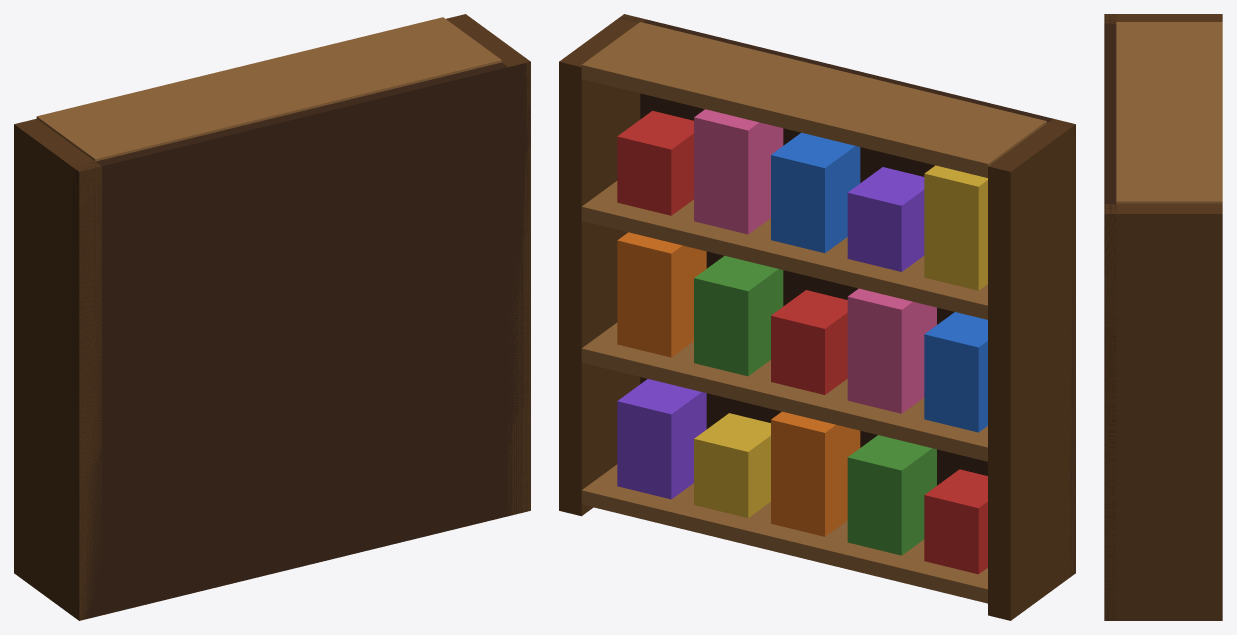
File: th-goods-shelf.glb
3 renders of one model, left to right at view 1: azimuth 30°, elevation 25°; view 2: azimuth 150°, elevation 25°; view 3: azimuth 270°, elevation 25°, orthographic. The views are drawn at different scales.
Visible parts, largest first — view 1: box-prop; view 2: box-prop; view 3: box-prop.
Part boxes in pixels (left/top/right/bottom): box-prop: left=14, top=14, right=530, bottom=620; box-prop: left=559, top=14, right=1075, bottom=620; box-prop: left=1104, top=14, right=1222, bottom=620.
Size of the model in its own units: 2 by 1.91 by 0.5.
